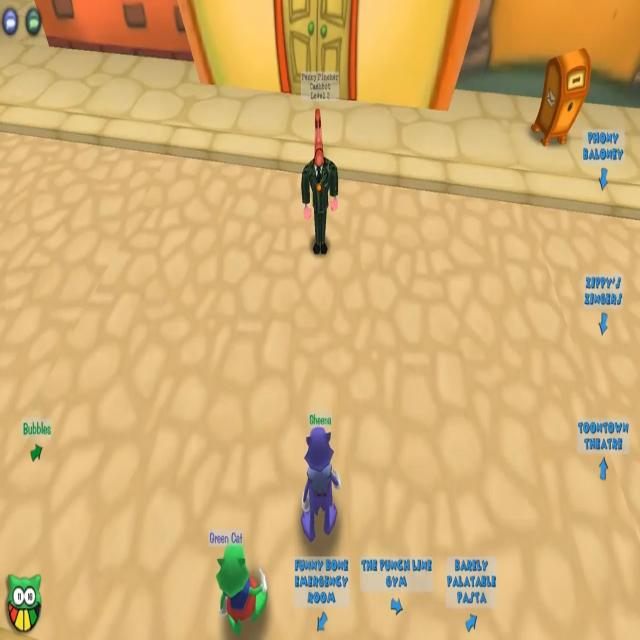pennypincher: (301, 110, 340, 257)
